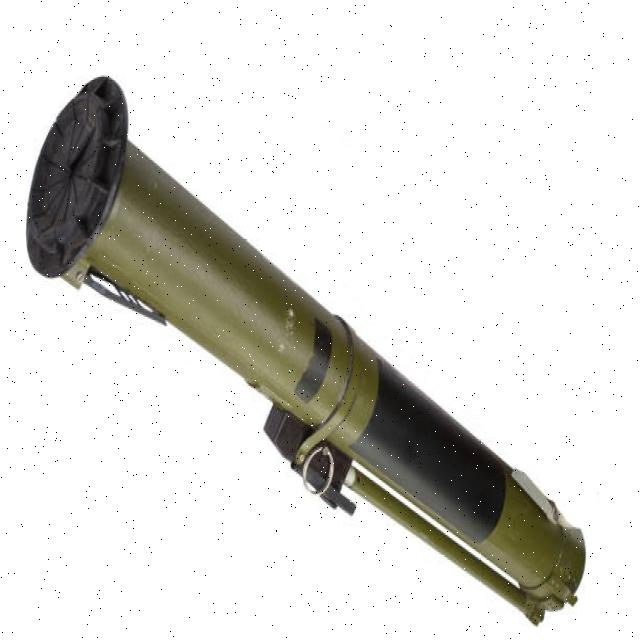bazooka: (21, 73, 593, 631)
